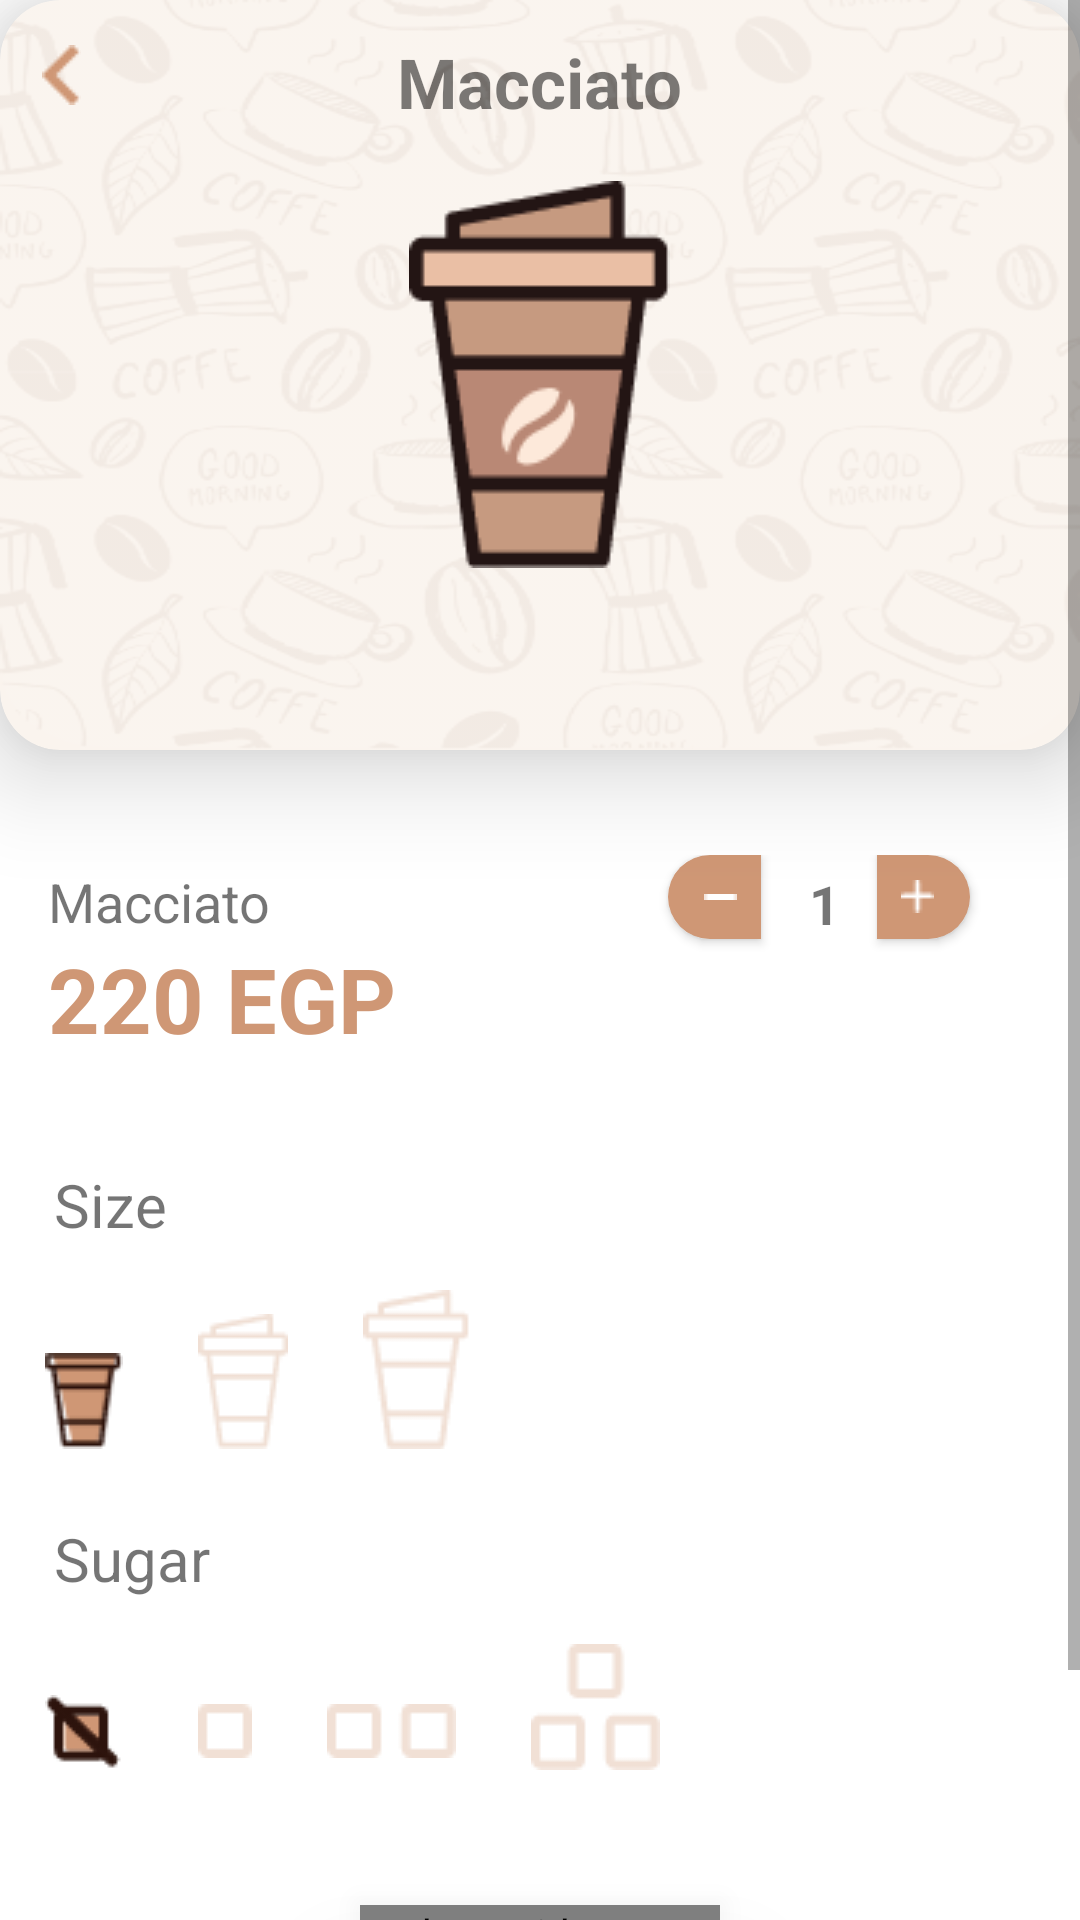

Named icons in this screenshot (1080*1920) and their centers, [x,y]:
back: [60,75]
